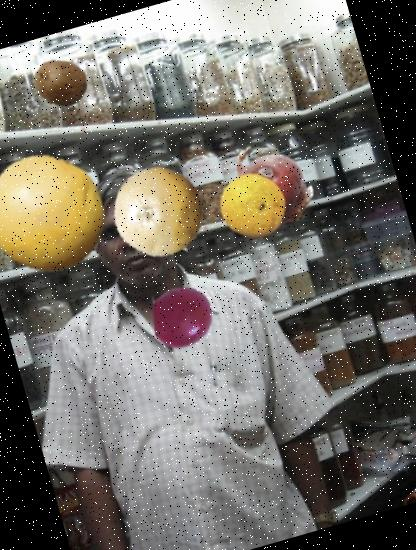Cantaloupe: (210, 163, 294, 247)
Grapefruit: (0, 138, 121, 290), (101, 156, 216, 271)
Kiwi: (26, 49, 93, 116)
Onion: (214, 136, 320, 242)
Redcurrant: (144, 278, 221, 355)
